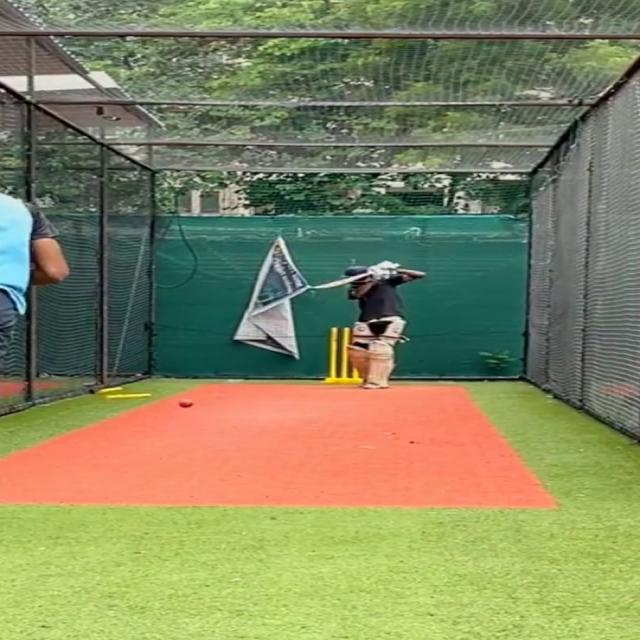ball: (176, 399, 194, 408)
stump: (325, 326, 352, 384)
